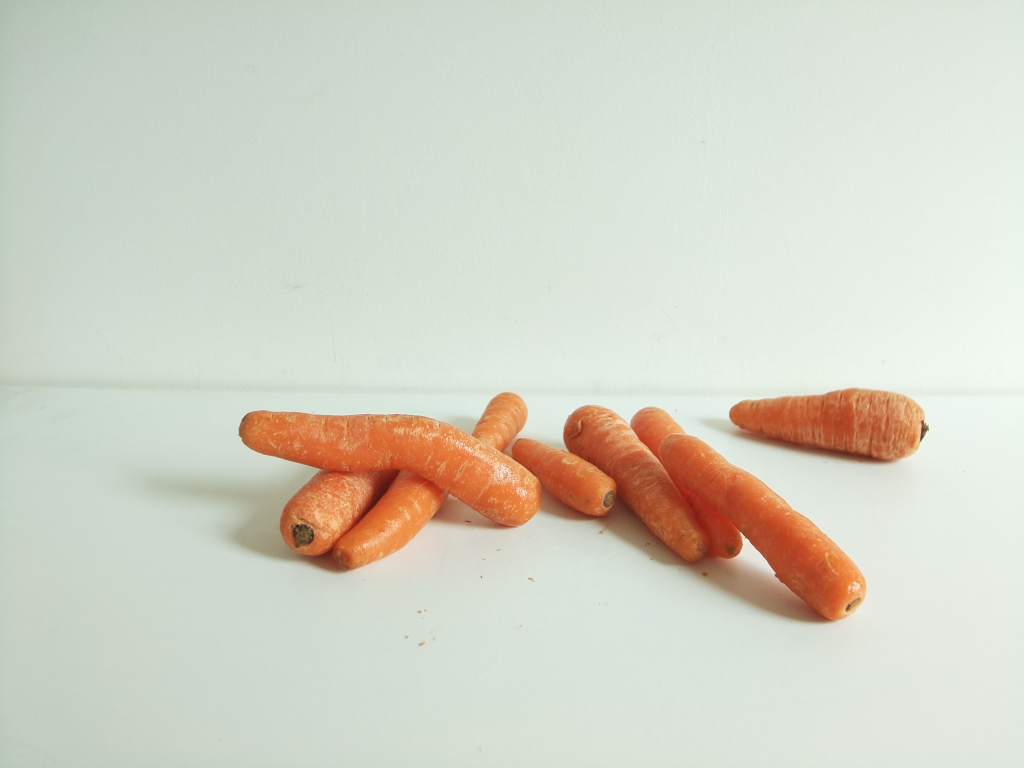carrot: (236, 394, 866, 621), (722, 387, 938, 468)
